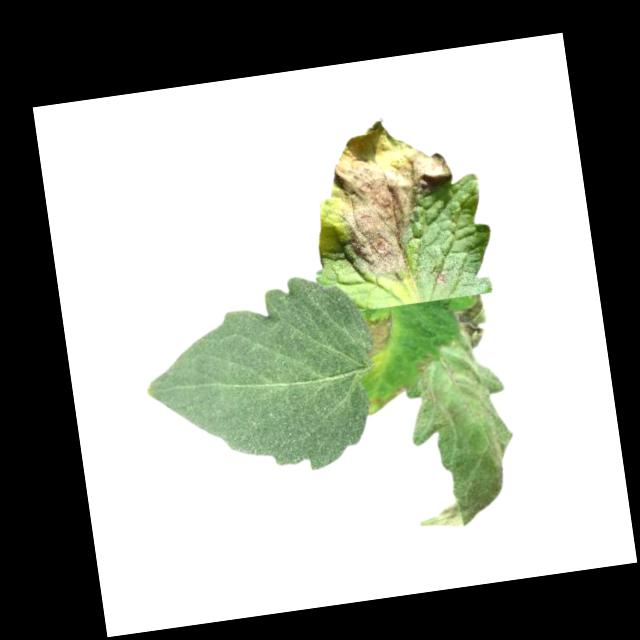Late_blight: (393, 327, 546, 534), (301, 106, 465, 288), (453, 294, 495, 350), (361, 315, 397, 360), (432, 266, 451, 287)
